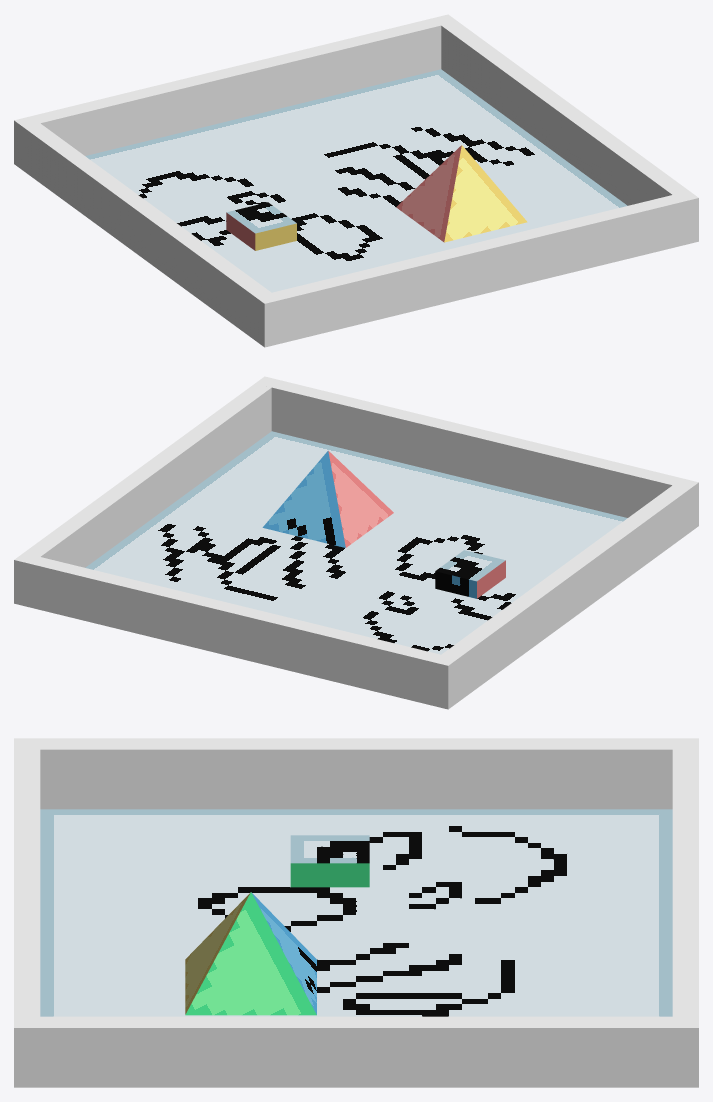
Rendered from CubeRoom.gltf.
The picture shows the model from 3 angles, top to bottom: view 1: azimuth 30°, elevation 25°; view 2: azimuth 150°, elevation 25°; view 3: azimuth 270°, elevation 25°; orthographic projection. The views are drawn at different scales.
Visible parts, largest first — view 1: cube (×5), plane, pyramid; view 2: cube (×5), plane, pyramid; view 3: plane, cube (×5), pyramid.
Boxes of the visible parts, x1,y1,x2,y2 form: cube (×5): (14,14,698,347); plane: (85,69,627,292); pyramid: (396,145,527,242); cube (×5): (14,376,698,709); plane: (85,431,627,654); pyramid: (262,450,393,547); plane: (40,809,672,1016); cube (×5): (14,738,698,1087); pyramid: (185,892,316,1015).
Size of the model in its own units: 3.25 by 0.5 by 3.25.
4 materials, 3 textured.
